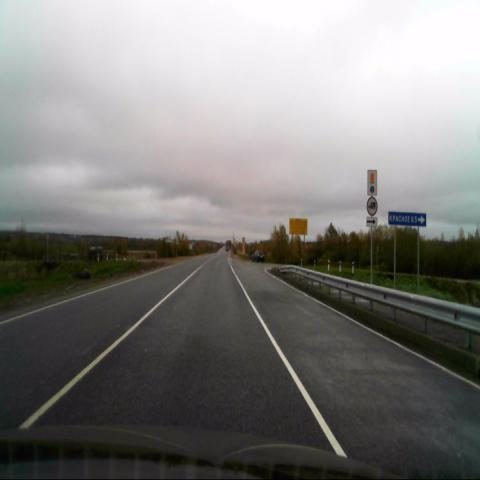4_8_2: (367, 170, 377, 196)
